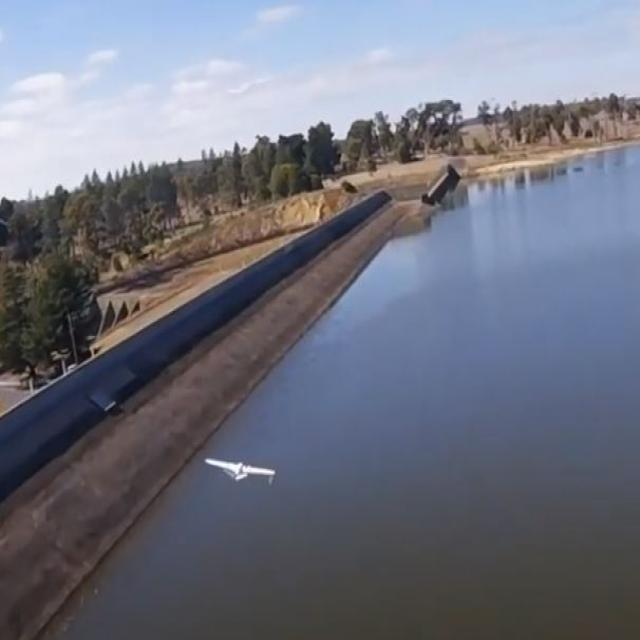iha: (238, 455, 240, 486)
